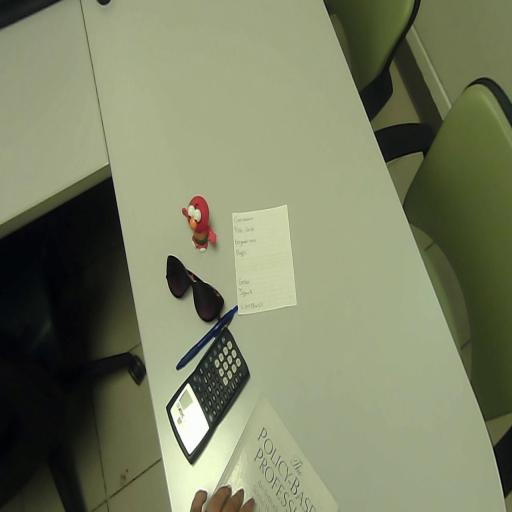pen: (176, 305, 237, 369)
